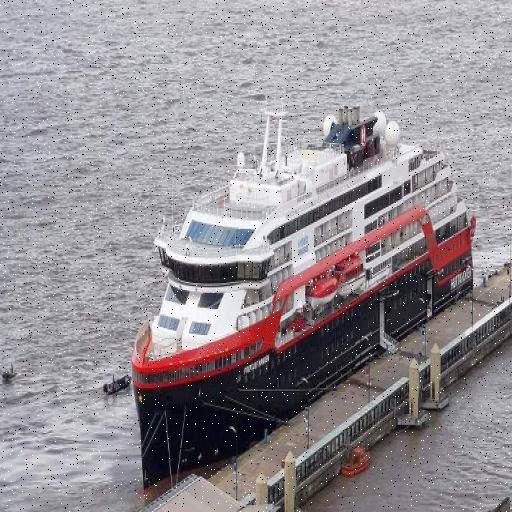cruises: (124, 81, 484, 501)
